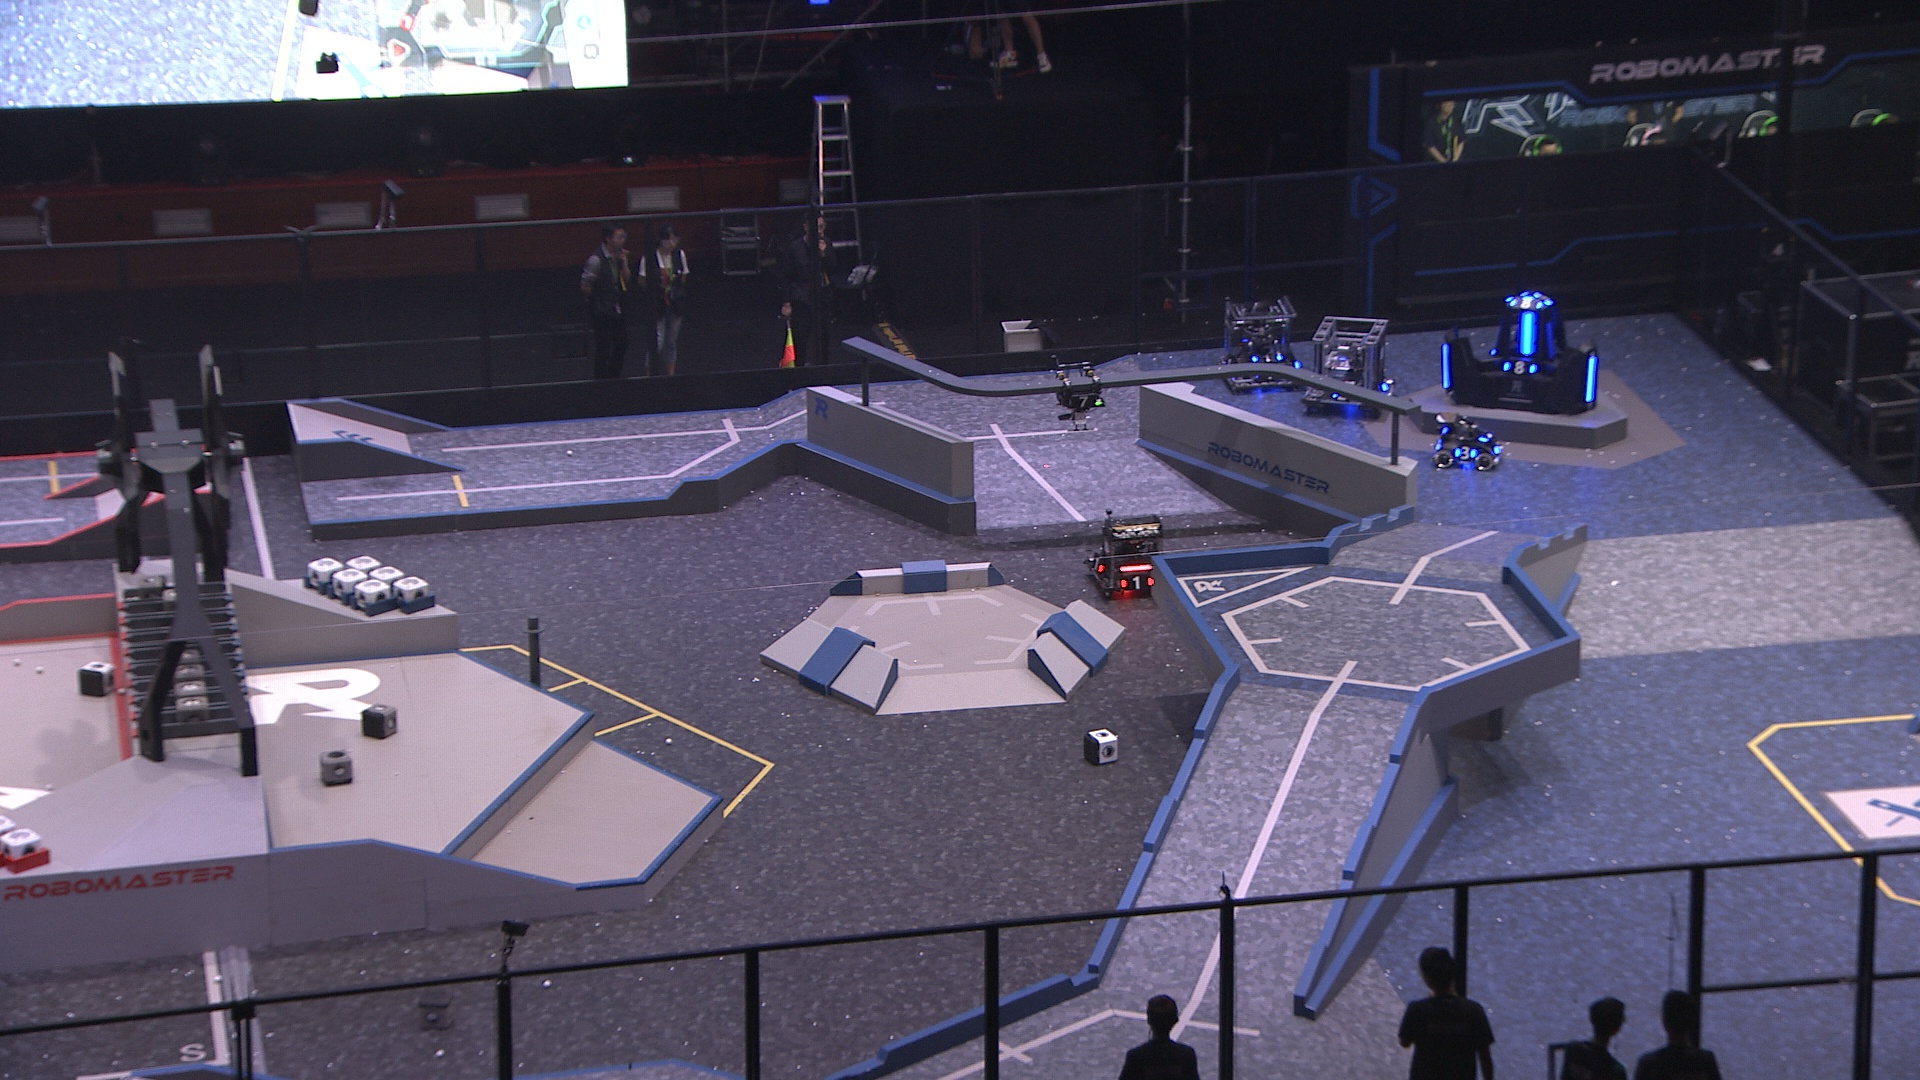armor: (1519, 311, 1542, 360), (1581, 353, 1600, 405), (1437, 338, 1453, 392), (1116, 572, 1156, 589), (1501, 360, 1539, 377), (1545, 318, 1560, 363), (1247, 348, 1283, 365), (1064, 394, 1102, 410), (1513, 295, 1543, 313), (1452, 442, 1476, 463), (1087, 551, 1106, 574), (1532, 289, 1552, 309), (1381, 372, 1395, 398)
base: (1433, 284, 1602, 418)
car: (1300, 313, 1396, 417), (1215, 295, 1305, 390), (1083, 508, 1168, 597), (1427, 413, 1505, 471)
watcher: (1048, 349, 1109, 433)
